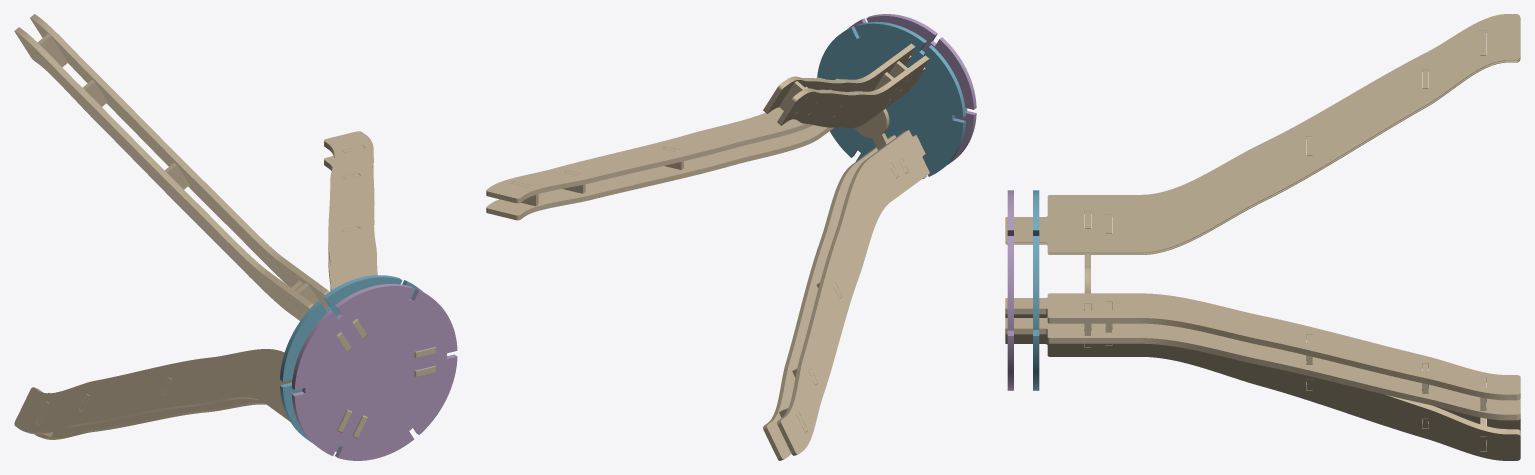
Rendered from actual-21-body-DESIGN_ONLY.glb.
3 views of the same model, side by side, from view 1: azimuth 30°, elevation 25°; view 2: azimuth 150°, elevation 25°; view 3: azimuth 270°, elevation 25° (orthographic). The views are drawn at different scales.
Parts seen in each view (by area): view 1: P04U, L3_P01_1, L1_P01_2, L2_P01_2, L2_P01_1, P04L, L3_P01_2, L2_S1; view 2: L3_P01_1, P04L, L1_P01_2, L1_P01_1, L2_P01_2, L3_P01_2, P04U, L2_P01_1, P03; view 3: L2_P01_1, L1_P01_2, L3_P01_2, L1_P01_1, P04L, P04U, L2_P01_2, L3_P01_1, P03.
Part boxes in pixels (left/top/right/bottom): P04U: left=291, top=284, right=457, bottom=460; L3_P01_1: left=14, top=349, right=351, bottom=434; L1_P01_2: left=324, top=131, right=435, bottom=357; L2_P01_2: left=14, top=27, right=351, bottom=351; L2_P01_1: left=30, top=14, right=367, bottom=338; P04L: left=280, top=275, right=422, bottom=451; L3_P01_2: left=35, top=393, right=367, bottom=439; L2_S1: left=36, top=34, right=67, bottom=69; L3_P01_1: left=777, top=130, right=929, bottom=455; P04L: left=817, top=21, right=965, bottom=178; L1_P01_2: left=486, top=77, right=840, bottom=203; L1_P01_1: left=486, top=125, right=833, bottom=220; L2_P01_2: left=777, top=55, right=929, bottom=127; L3_P01_2: left=763, top=135, right=896, bottom=460; P04U: left=848, top=14, right=976, bottom=164; L2_P01_1: left=763, top=43, right=915, bottom=113; P03: left=854, top=61, right=908, bottom=173; L2_P01_1: left=1005, top=14, right=1520, bottom=253; L1_P01_2: left=1005, top=293, right=1520, bottom=400; L3_P01_2: left=1005, top=327, right=1520, bottom=460; L1_P01_1: left=1005, top=317, right=1520, bottom=420; P04L: left=1033, top=190, right=1039, bottom=390; P04U: left=1007, top=190, right=1013, bottom=390; L2_P01_2: left=1005, top=31, right=1520, bottom=254; L3_P01_1: left=1005, top=307, right=1520, bottom=439; P03: left=1084, top=211, right=1090, bottom=346.
Size of the model in its own units: 0.4047 by 0.4673 by 0.488.
